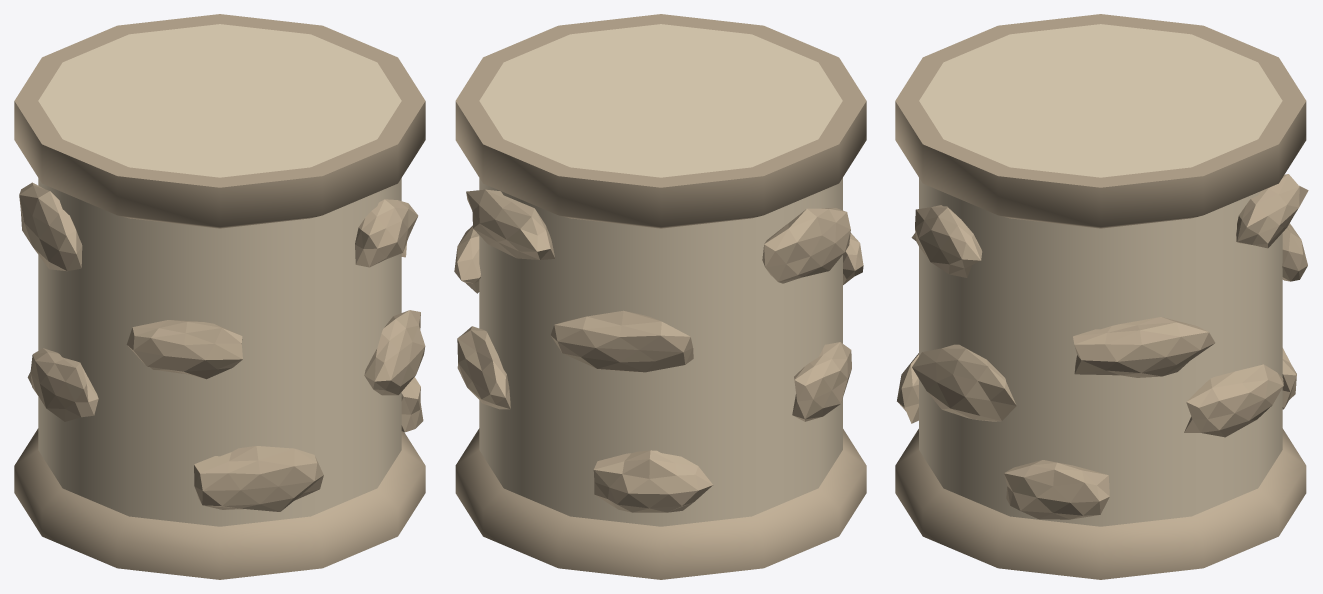
The model's file is building.roundtower.glb.
The picture shows the model from 3 angles, left to right: view 1: azimuth 30°, elevation 25°; view 2: azimuth 150°, elevation 25°; view 3: azimuth 270°, elevation 25°; orthographic projection.
Visible parts, largest first — view 1: Paint, PaintDark; view 2: Paint, PaintDark; view 3: Paint, PaintDark.
Part boxes in pixels (bbox=[...]): Paint: bbox=[38, 24, 401, 526]; PaintDark: bbox=[14, 14, 425, 579]; Paint: bbox=[479, 24, 842, 526]; PaintDark: bbox=[454, 14, 866, 579]; Paint: bbox=[919, 24, 1282, 526]; PaintDark: bbox=[895, 14, 1308, 579].
Bounding box in the file's own units: 0.9579 × 1 × 0.9553.
